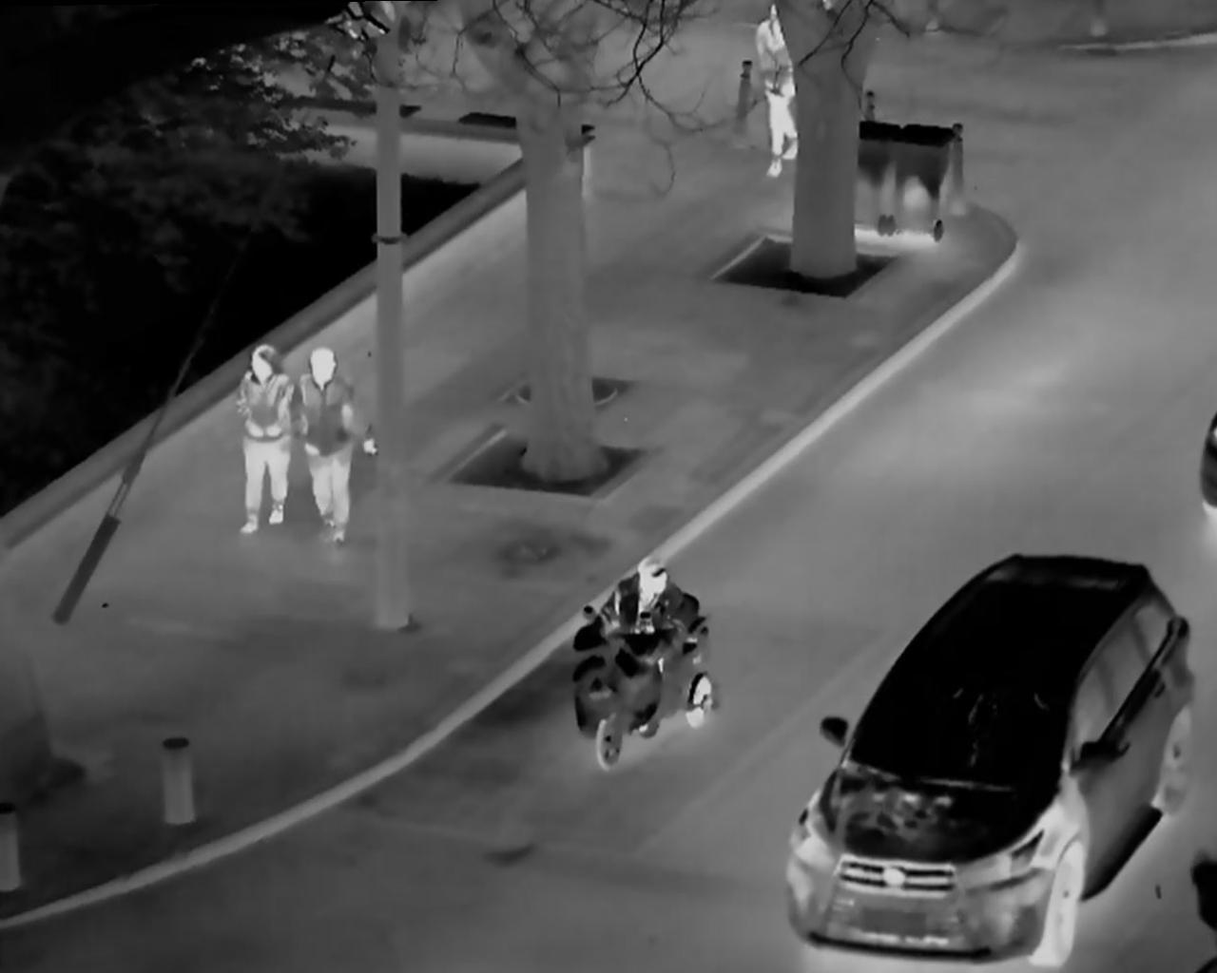person: (575, 546, 716, 749), (288, 333, 373, 559), (231, 337, 297, 531), (751, 2, 799, 174)
